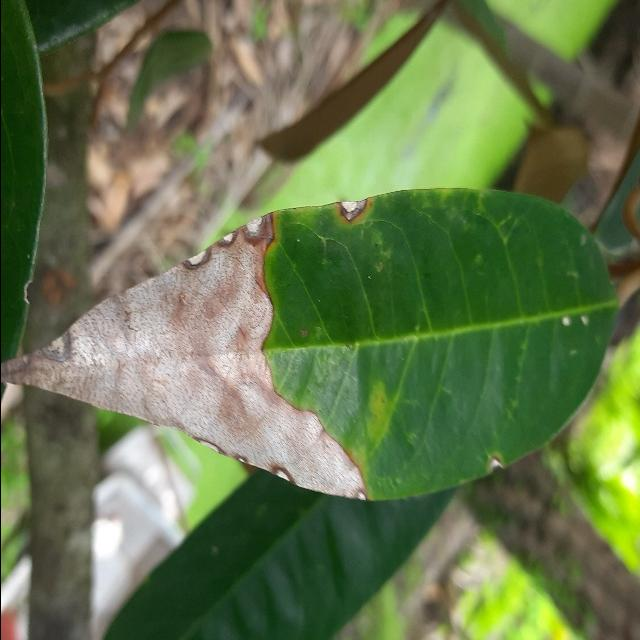Leaf Blight: (0, 177, 621, 510)
